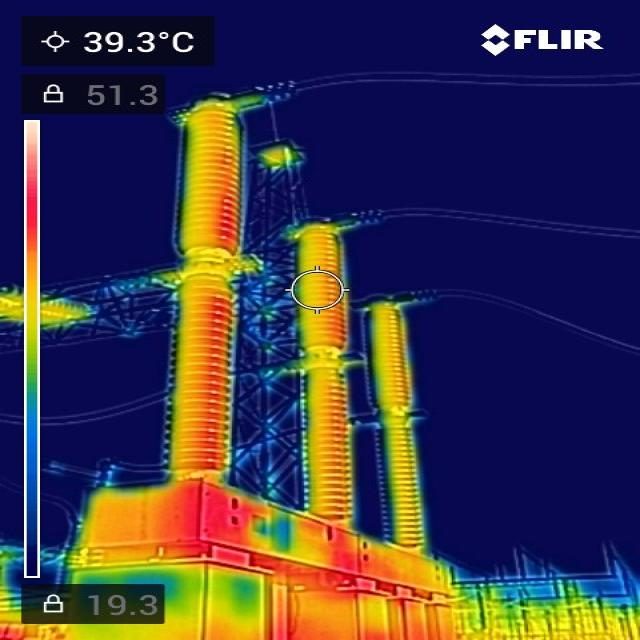Zona_Atenco: (216, 119, 237, 245)
Zona_Critica: (175, 493, 244, 561), (316, 535, 383, 600), (202, 302, 228, 465)
